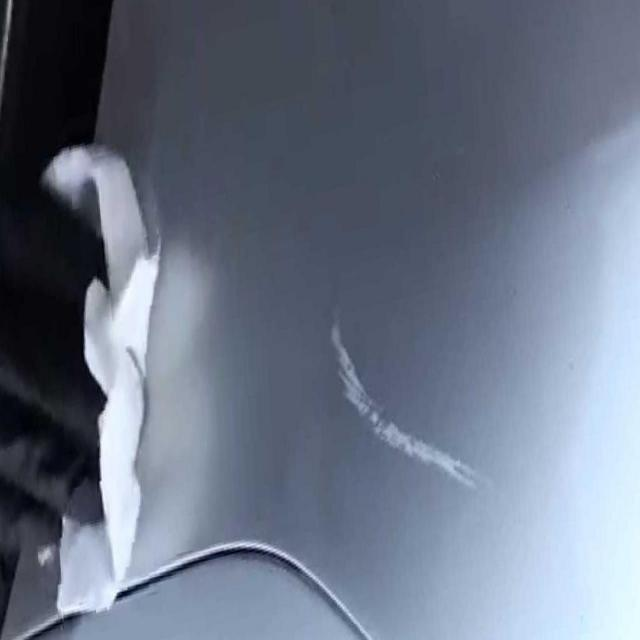scratch: (322, 310, 492, 504)
